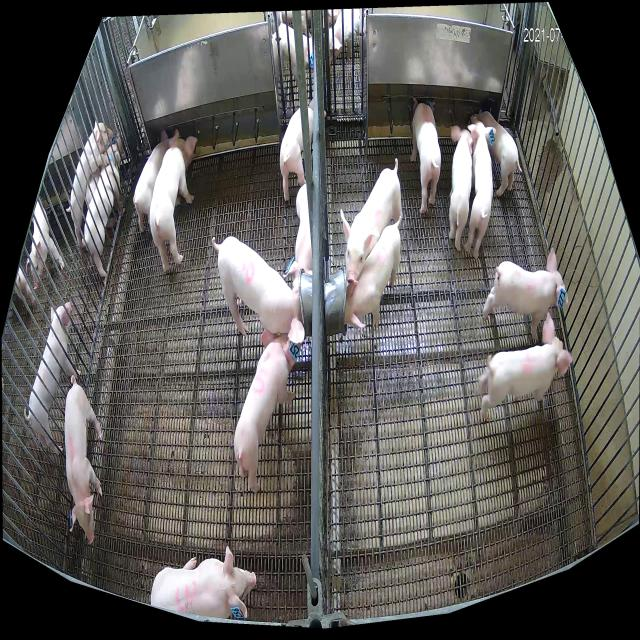pig: (478, 312, 573, 420), (234, 331, 296, 493), (212, 236, 305, 343), (151, 542, 256, 618), (483, 247, 568, 339), (340, 158, 402, 284), (149, 129, 198, 271), (344, 214, 401, 329), (64, 375, 102, 544), (470, 110, 522, 196), (464, 120, 496, 259), (133, 130, 170, 232), (411, 99, 441, 213), (280, 98, 313, 201), (449, 125, 472, 251), (283, 183, 313, 276)
